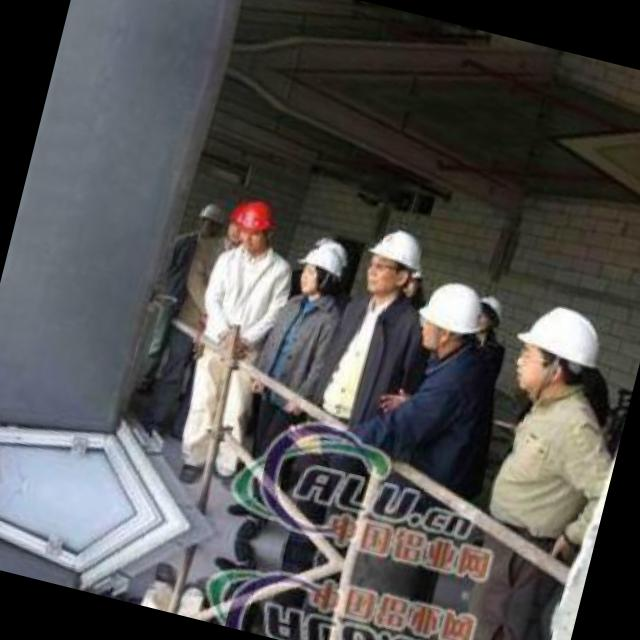helmet: (502, 290, 616, 416), (350, 214, 436, 310), (411, 272, 488, 360), (288, 236, 350, 308), (234, 191, 284, 257), (472, 291, 510, 338), (190, 194, 228, 240), (222, 195, 250, 244)
